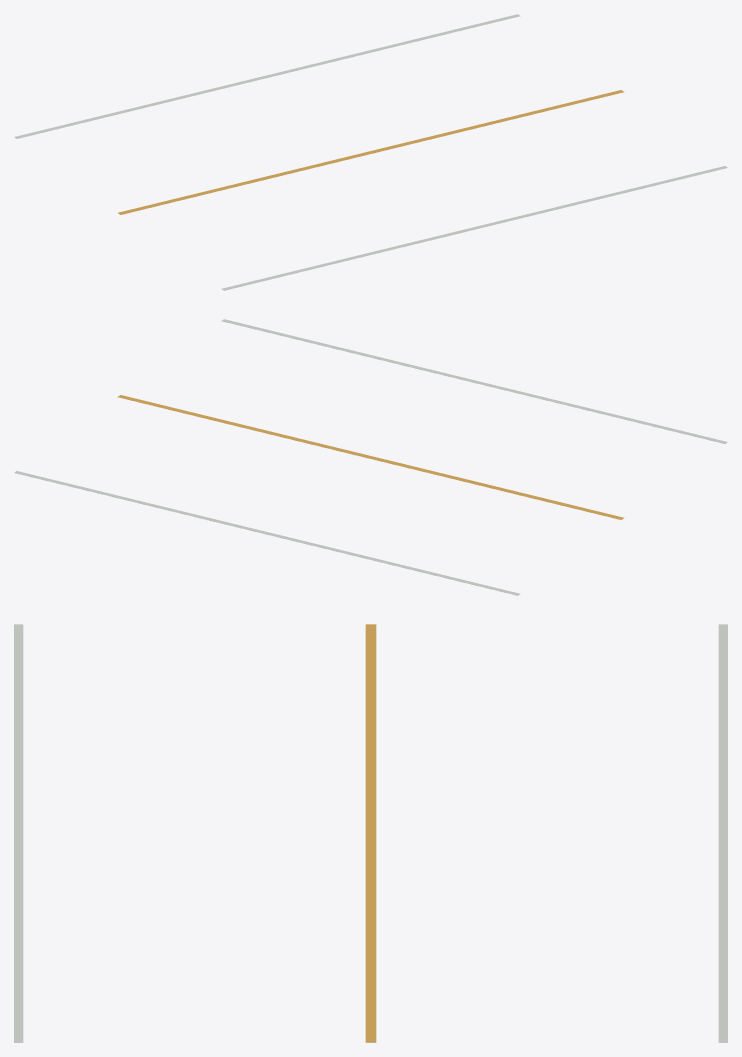
The model's file is RoadPlan_Marking_2L_L8.glb.
3 renders of one model, top to bottom at view 1: azimuth 30°, elevation 25°; view 2: azimuth 150°, elevation 25°; view 3: azimuth 270°, elevation 25°, orthographic. The views are drawn at different scales.
Parts seen in each view (by area): view 1: RoadPlan_Marking_2L_L8_Center, RoadPlan_Marking_2L_L8_EdgeRight, RoadPlan_Marking_2L_L8_EdgeLeft; view 2: RoadPlan_Marking_2L_L8_Center, RoadPlan_Marking_2L_L8_EdgeRight, RoadPlan_Marking_2L_L8_EdgeLeft; view 3: RoadPlan_Marking_2L_L8_Center, RoadPlan_Marking_2L_L8_EdgeRight, RoadPlan_Marking_2L_L8_EdgeLeft.
Boxes of the visible parts, x1,y1,x2,y2 form: RoadPlan_Marking_2L_L8_Center: [117, 90, 624, 214]; RoadPlan_Marking_2L_L8_EdgeRight: [221, 166, 727, 290]; RoadPlan_Marking_2L_L8_EdgeLeft: [14, 14, 520, 138]; RoadPlan_Marking_2L_L8_Center: [117, 395, 624, 519]; RoadPlan_Marking_2L_L8_EdgeRight: [221, 319, 727, 443]; RoadPlan_Marking_2L_L8_EdgeLeft: [14, 471, 520, 595]; RoadPlan_Marking_2L_L8_Center: [365, 624, 376, 1042]; RoadPlan_Marking_2L_L8_EdgeRight: [14, 624, 23, 1042]; RoadPlan_Marking_2L_L8_EdgeLeft: [718, 624, 727, 1042].
Bounding box in the file's own units: 8 × 0.0007 × 5.78.
